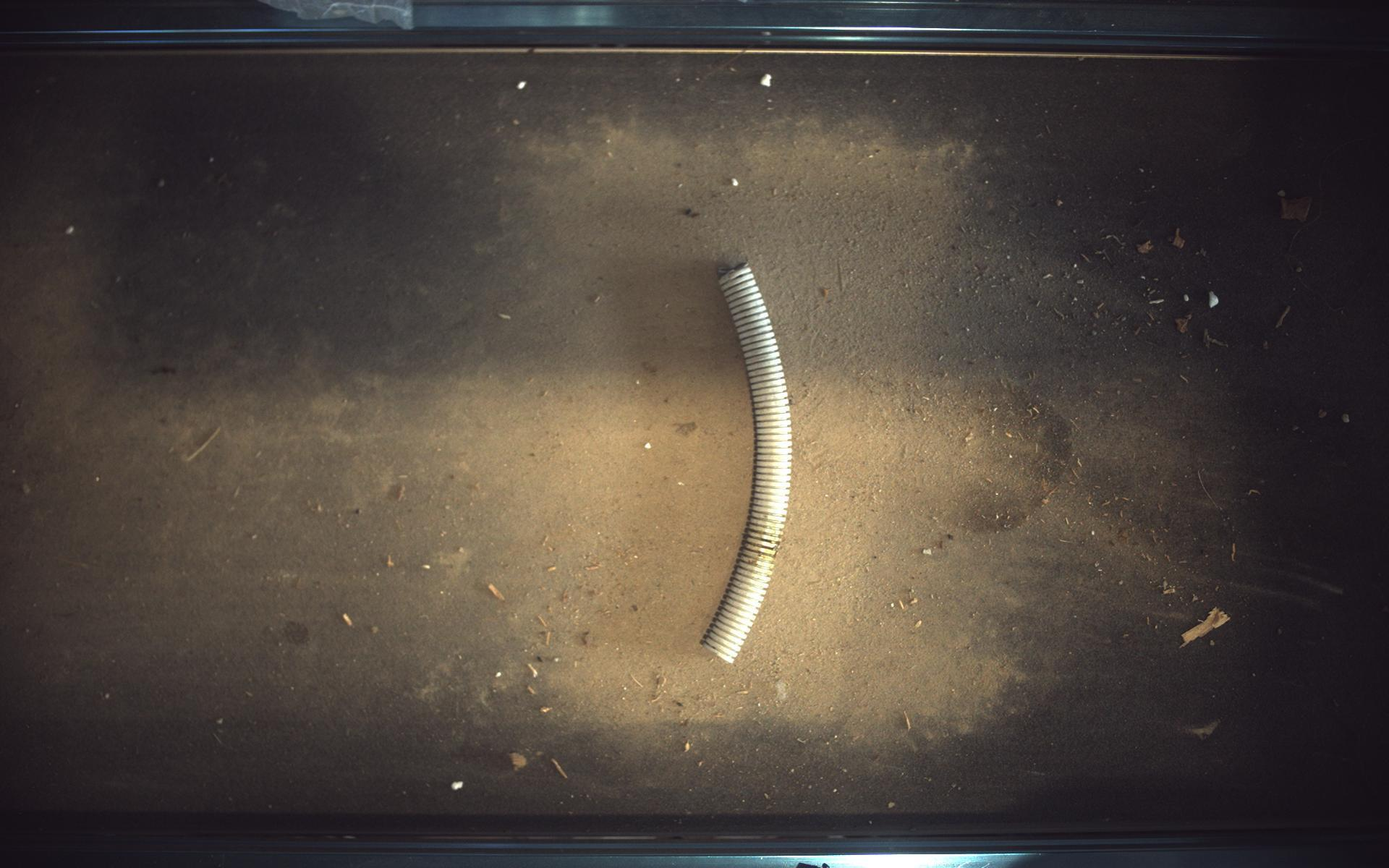pipes: (703, 262, 794, 664)
